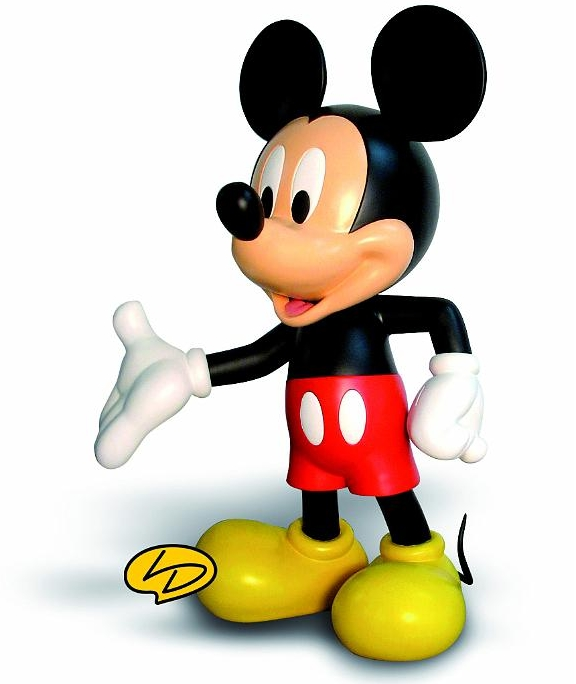Mickey: (211, 2, 488, 328)
